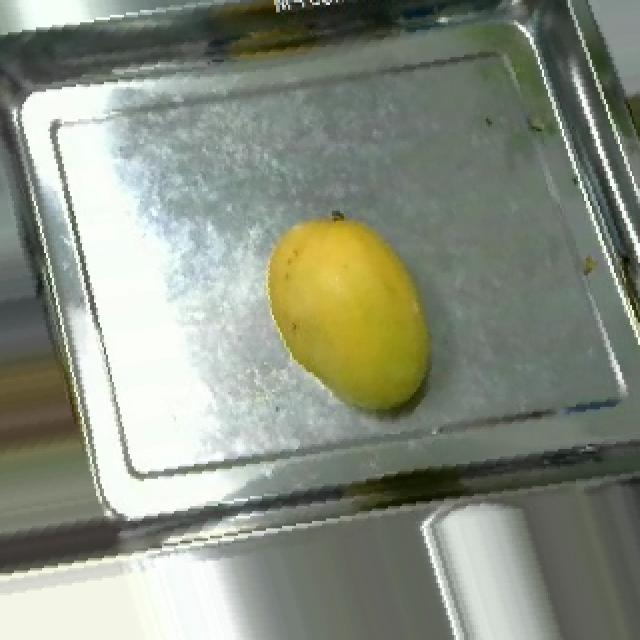fruit: (232, 181, 478, 442)
